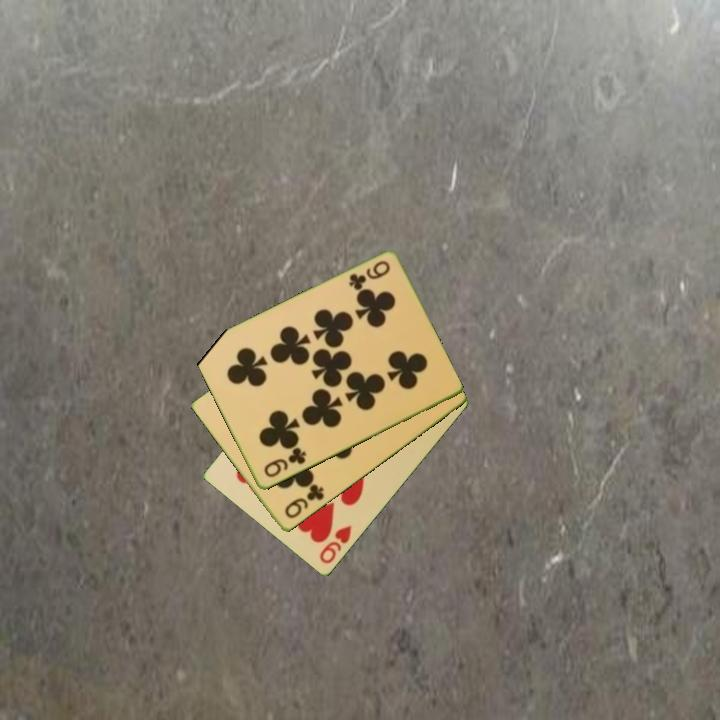9c: (281, 481, 327, 522), (345, 257, 393, 294), (260, 445, 309, 481)
9h: (316, 522, 355, 567)
